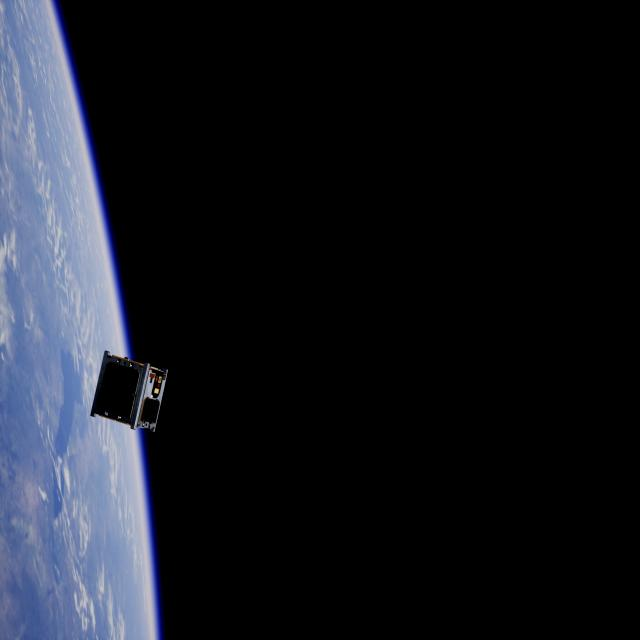medium_debris: (91, 345, 170, 436)
